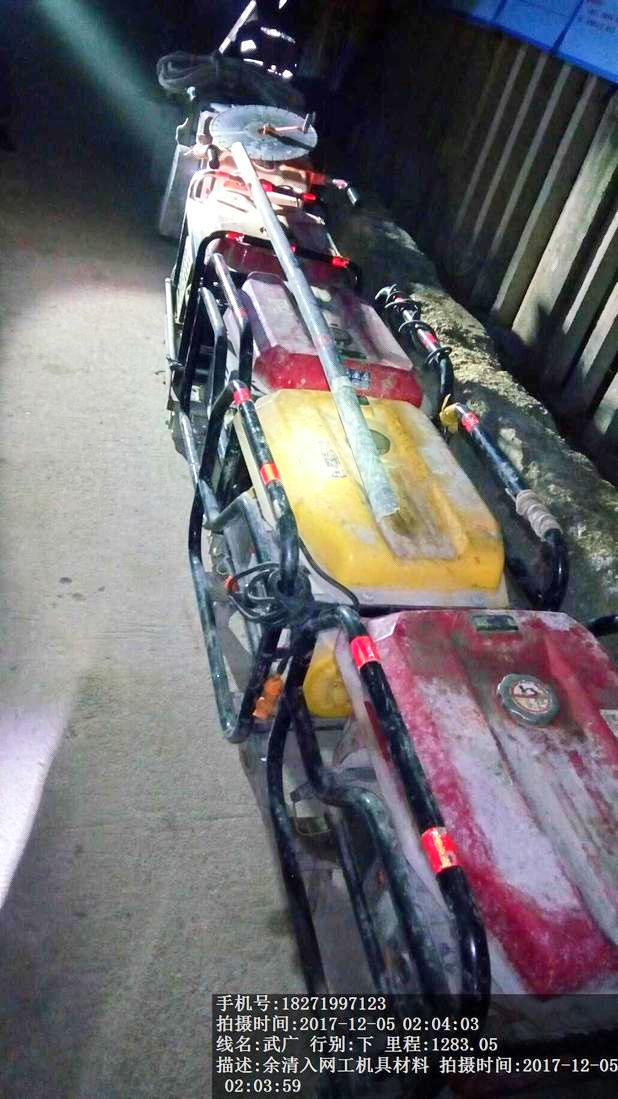DJ: (251, 606, 618, 994), (183, 392, 575, 605), (173, 263, 465, 392)
